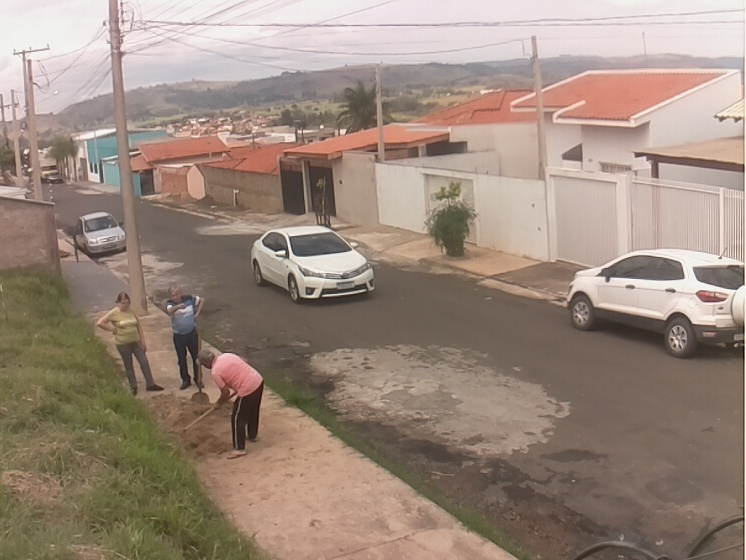person: (195, 348, 266, 459), (95, 292, 163, 395), (164, 284, 207, 389)
